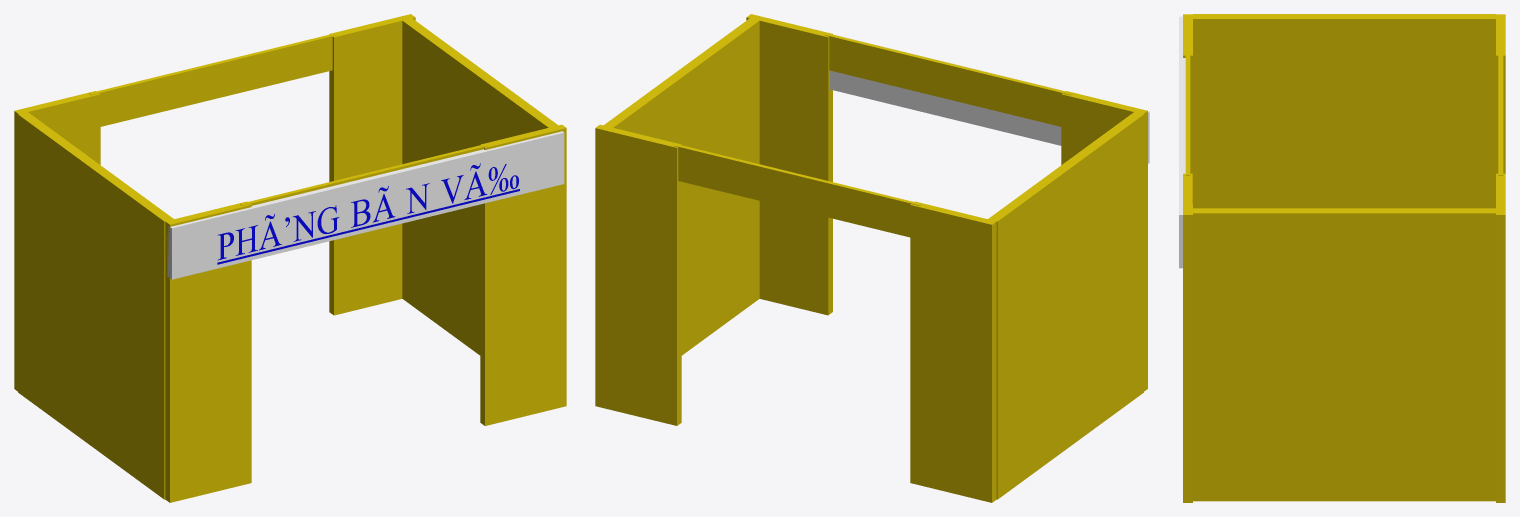
The model's file is phongbanve.fbx.
3 renders of one model, left to right at view 1: azimuth 30°, elevation 25°; view 2: azimuth 150°, elevation 25°; view 3: azimuth 270°, elevation 25°, orthographic. The views are drawn at different scales.
Parts seen in each view (by area): view 1: VBox004, VBox005, VBox001, VBox002, VBox009, VBox007, VBox008, VBox006, VText001, VBox003; view 2: VBox004, VBox006, VBox007, VBox005, VBox002, VBox008, VBox003, VBox009, VBox001; view 3: VBox005, VBox004, VBox002, VBox007, VBox009, VBox006, VBox001, VBox003, VBox008.
Part boxes in pixels (x1,y1,x2,y2): VBox004: (18,112,173,499); VBox005: (402,18,558,355); VBox001: (165,201,251,502); VBox002: (480,124,566,425); VBox009: (167,131,564,279); VBox007: (329,14,415,315); VBox008: (89,33,336,126); VBox006: (14,91,100,391); VText001: (217,163,519,264); VBox003: (240,144,487,205); VBox004: (988,112,1143,499); VBox006: (910,201,996,502); VBox007: (595,124,681,425); VBox005: (603,18,759,355); VBox002: (746,14,832,315); VBox008: (674,144,921,237); VBox003: (825,33,1072,126); VBox009: (830,34,1149,163); VBox001: (1061,91,1147,391); VBox005: (1193,208,1495,501); VBox004: (1193,14,1495,208); VBox002: (1183,173,1192,502); VBox007: (1496,173,1505,502); VBox009: (1179,16,1185,268); VBox006: (1496,14,1505,173); VBox001: (1183,14,1192,204); VBox003: (1185,51,1190,175); VBox008: (1498,51,1503,175).
Bounding box in the file's own units: 24.31 × 16.28 × 16.75.
